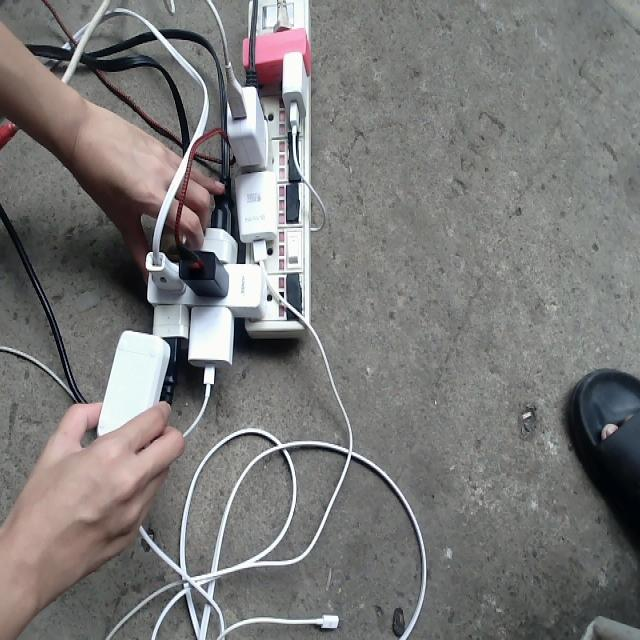-: (145, 0, 312, 371)
